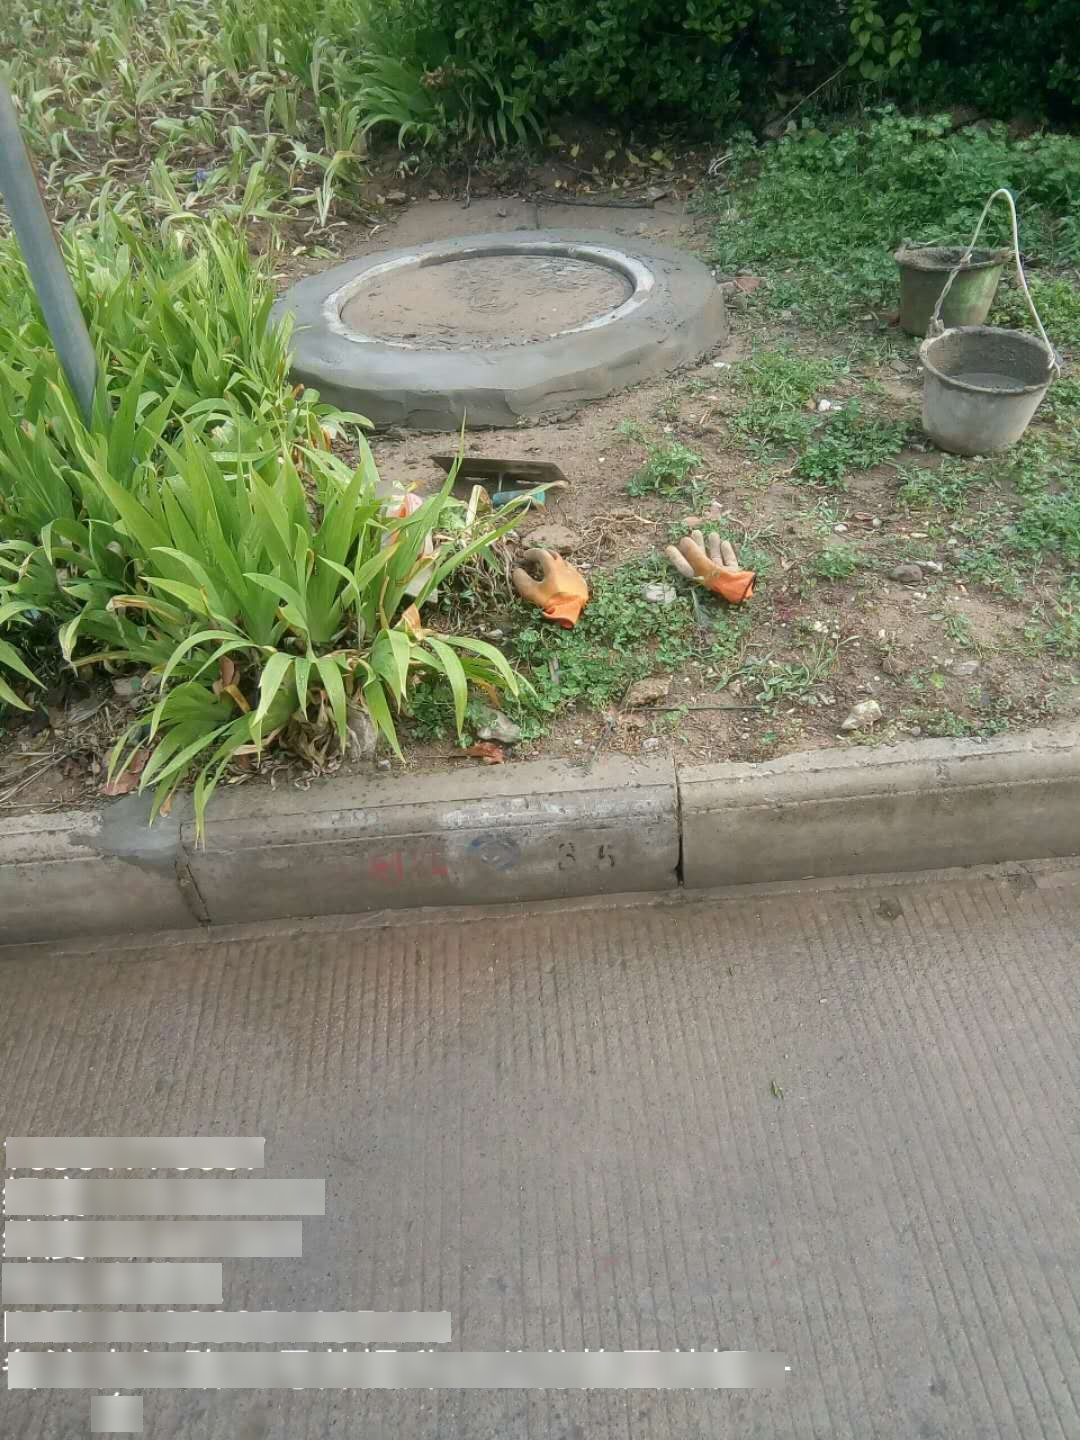good: (320, 239, 656, 345)
